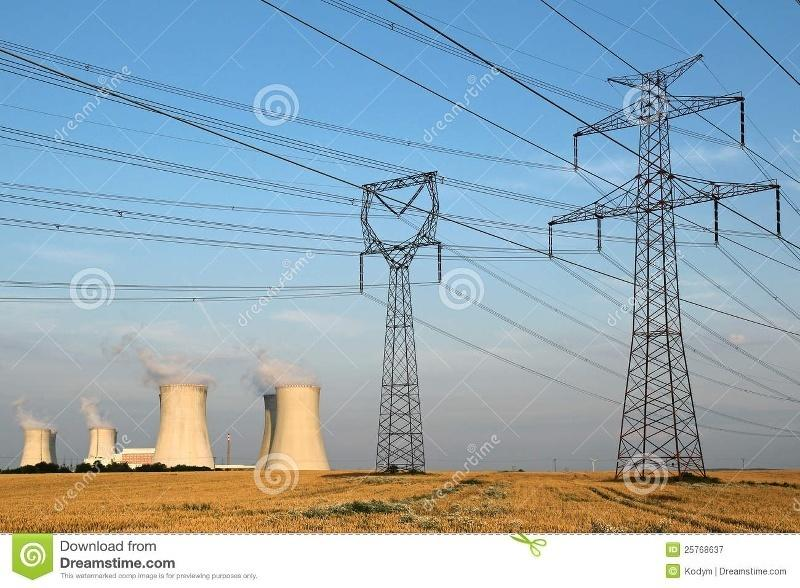power_tower: (560, 71, 767, 474), (343, 165, 445, 486)
